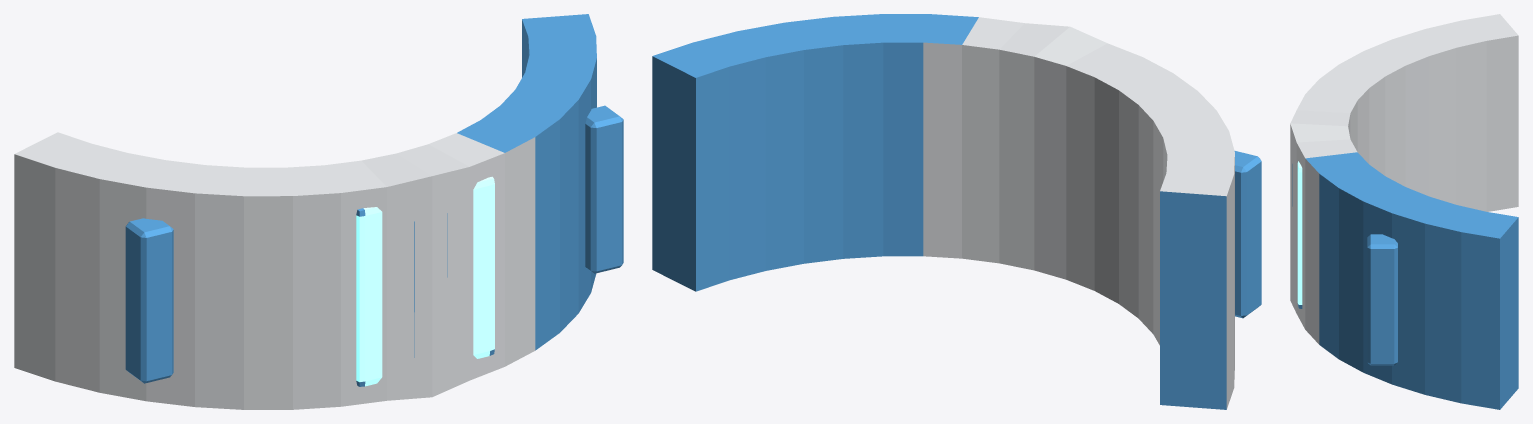
The model's file is waist__hero_buckle.glb.
3 renders of one model, left to right at view 1: azimuth 30°, elevation 25°; view 2: azimuth 150°, elevation 25°; view 3: azimuth 270°, elevation 25°, orthographic. The views are drawn at different scales.
Parts seen in each view (by area): view 1: armor_armor_waist__hero_buckle_v001_v001; view 2: armor_armor_waist__hero_buckle_v001_v001; view 3: armor_armor_waist__hero_buckle_v001_v001.
Boxes of the visible parts, x1,y1,x2,y2 form: armor_armor_waist__hero_buckle_v001_v001: (14,14,623,409); armor_armor_waist__hero_buckle_v001_v001: (652,14,1261,409); armor_armor_waist__hero_buckle_v001_v001: (1290,14,1518,409).
Bounding box in the file's own units: 0.45 × 0.1655 × 0.1933.
